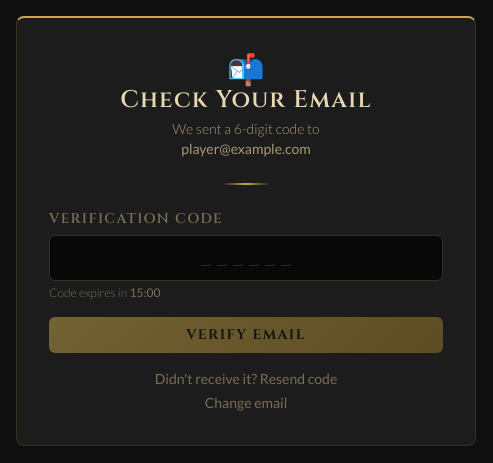
it: VerifyForm › strips non-alphanumeric characters from code input
The width and height of the screenshot is (493, 463).
Step 1. Type "AB!@#1" into the field named "6-digit verification code" → [246, 258], box [49,235,443,281]
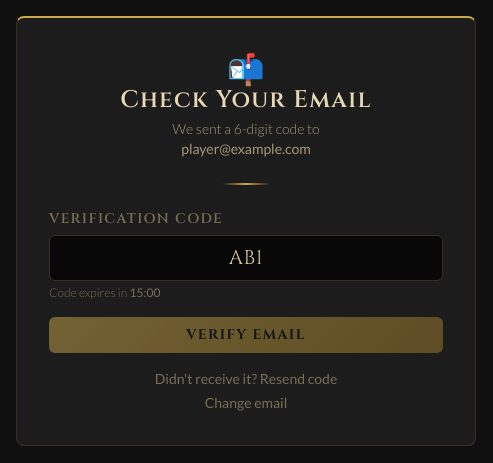
expect the field named "6-digit verification code" holds "AB1": met, box [49,235,443,281]
